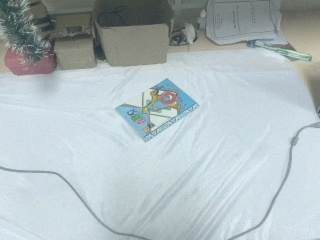book: (114, 74, 200, 143)
box: (94, 1, 174, 67)
